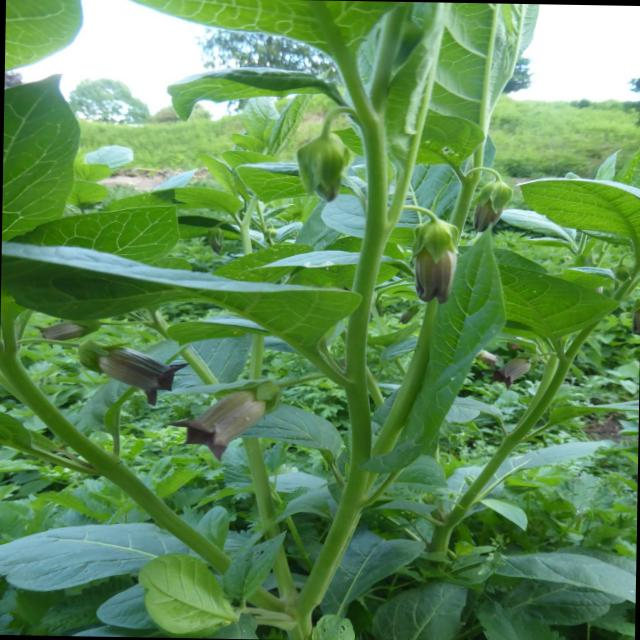Poisonous-Deadly_Nightshade: (15, 317, 348, 639), (290, 108, 544, 367)
